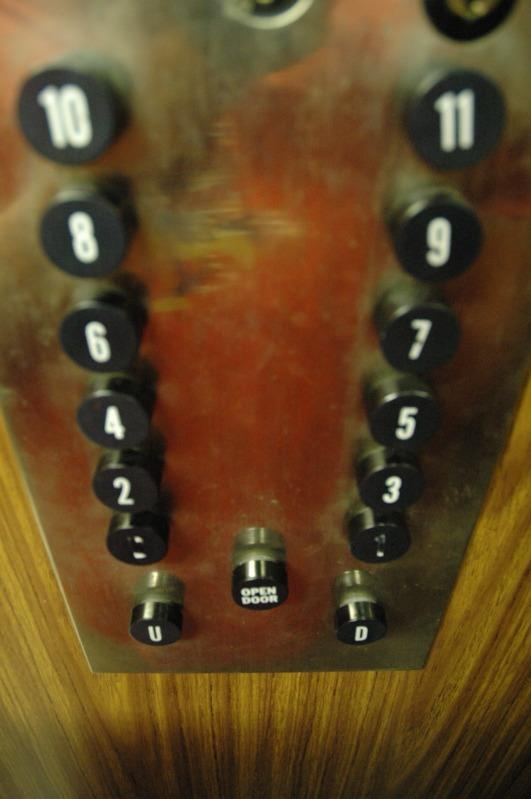10: (11, 56, 131, 170)
11: (399, 62, 511, 170)
2: (86, 451, 164, 516)
3: (352, 451, 421, 512)
4: (69, 377, 156, 450)
5: (360, 377, 441, 453)
6: (54, 291, 150, 373)
7: (372, 294, 462, 378)
8: (30, 186, 138, 281)
9: (382, 186, 483, 286)
D: (329, 597, 390, 650)
U: (123, 598, 191, 652)
blur: (341, 511, 417, 568), (102, 511, 171, 568)
text_open door: (228, 554, 293, 616)
